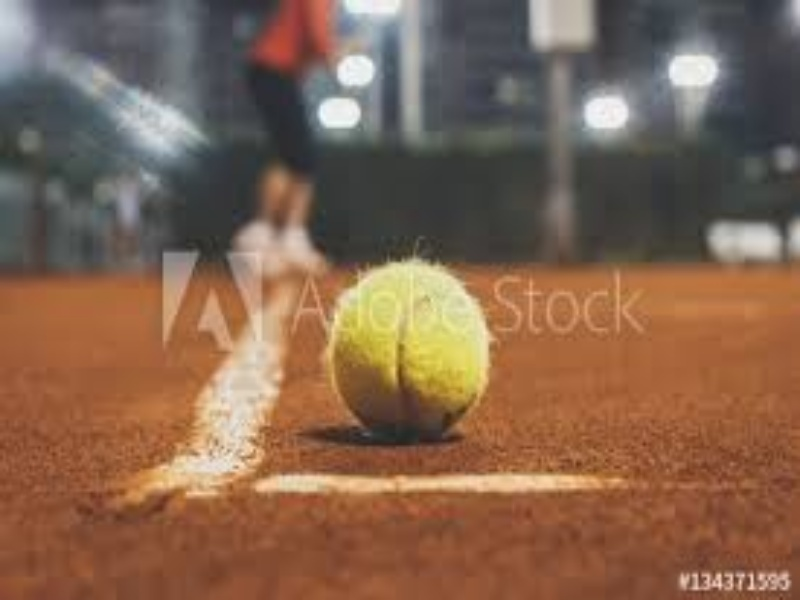tennis ball: (325, 243, 523, 458)
